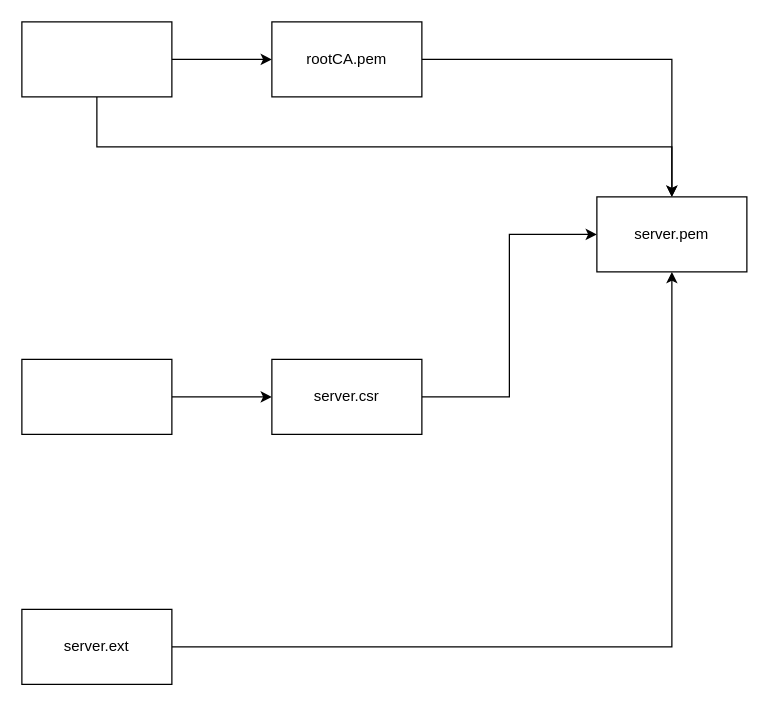
Some shapes in this 769 by 706 pixel diagram are drawn without their labels. Here are the shapes that lost their labels. From the top down, the centre of each, then its label:
At pixel 96 59: "rootCA.key".
At pixel 96 396: "server.key".
